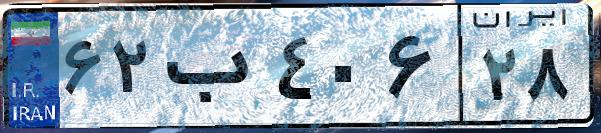0: (330, 28, 385, 110)
2: (475, 38, 525, 113), (110, 28, 158, 98)
4: (270, 28, 330, 110)
6: (385, 28, 445, 110), (57, 26, 110, 100)
8: (525, 38, 570, 115)
ب: (158, 20, 270, 120)
